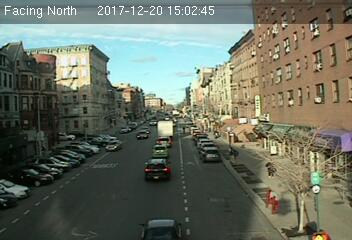car: (143, 158, 171, 181), (199, 146, 222, 162), (152, 144, 168, 158), (106, 139, 121, 150), (136, 130, 148, 141)
